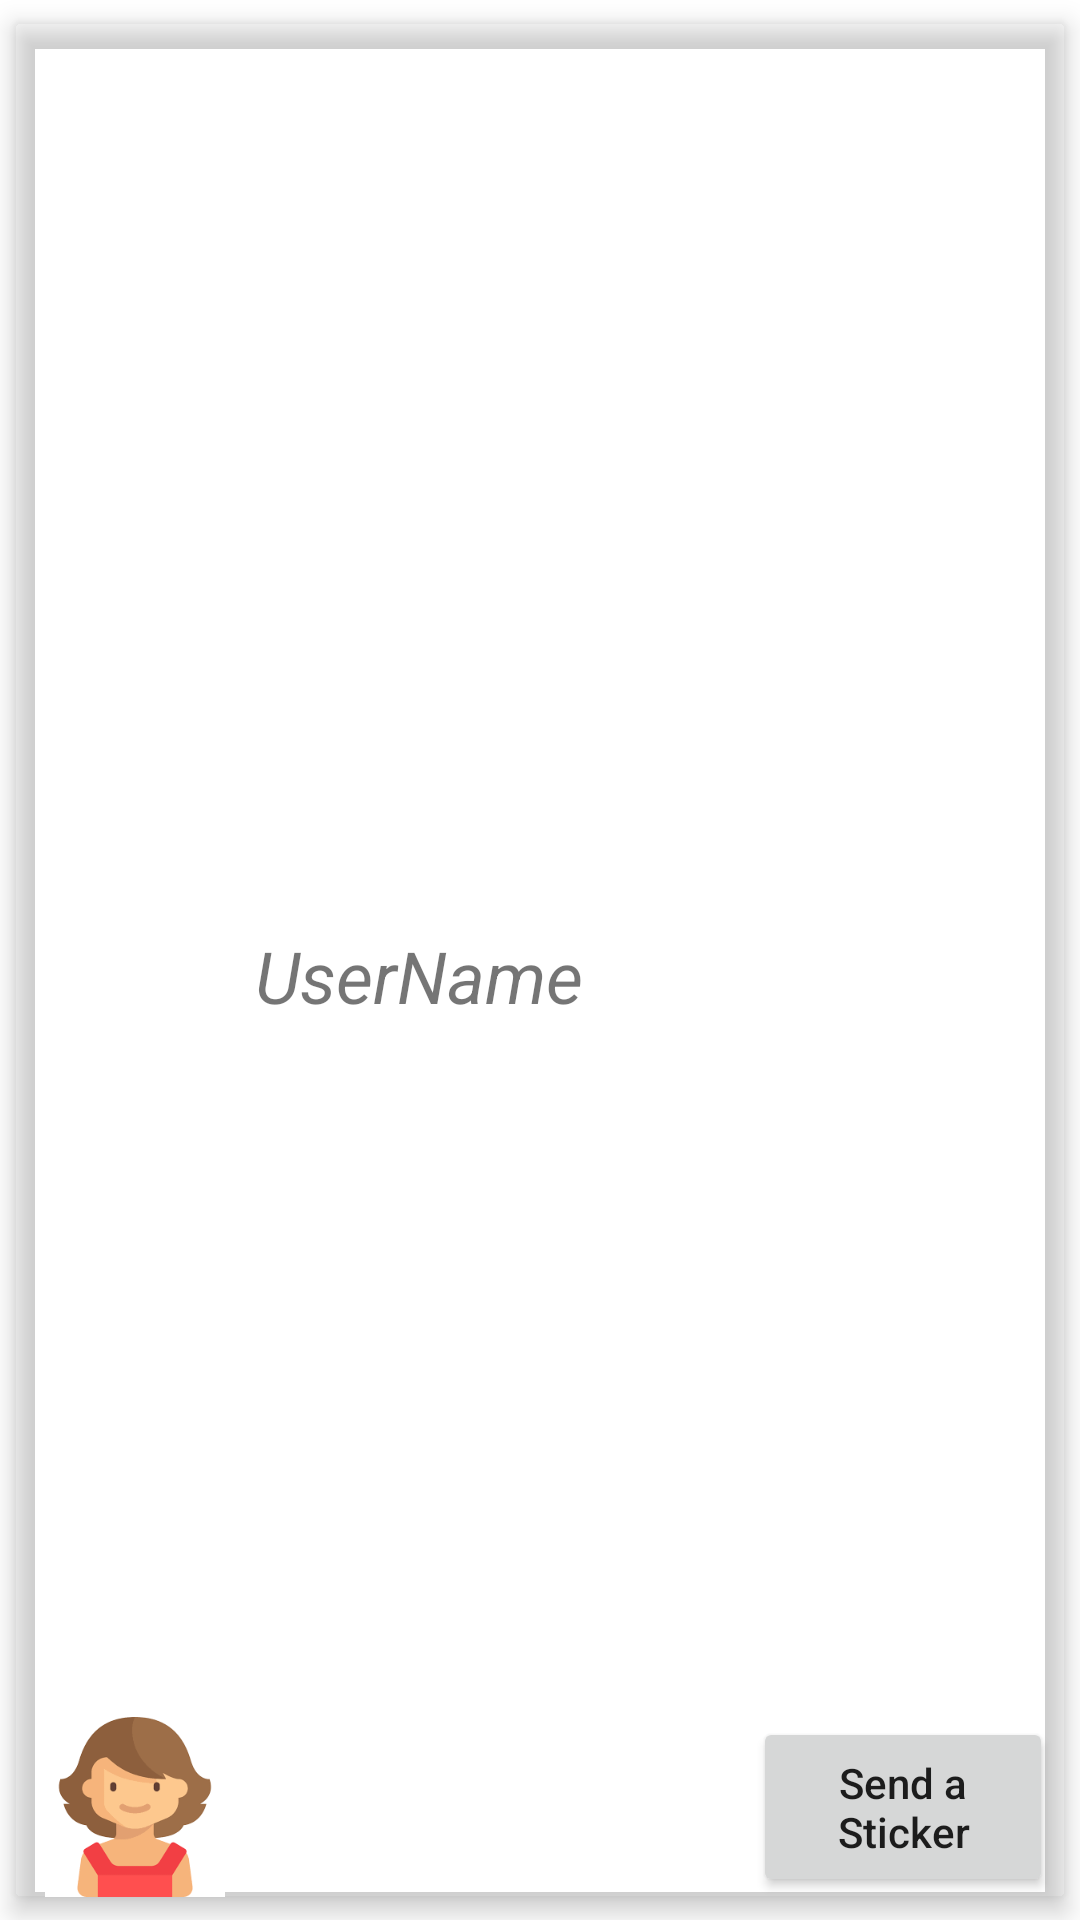

Point at icon controls on the screen. Image size 1080×1920, points as (x,y).
user: (135,1807)
